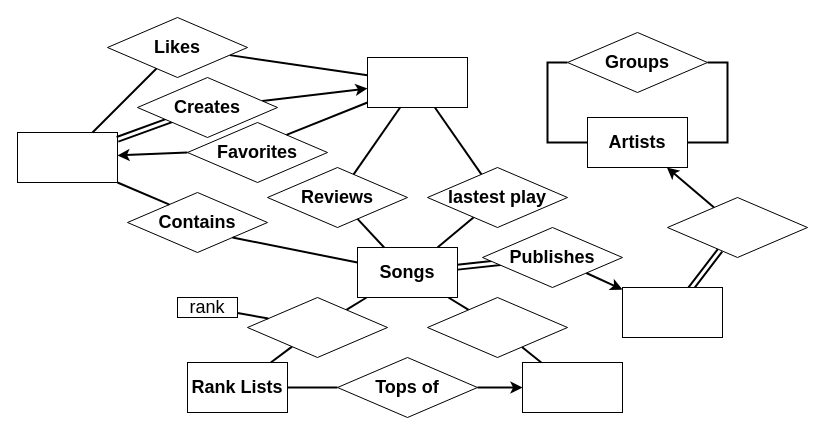
Some shapes in this 825 by 435 pixel diagram are drawn without their labels. Here are the shapes that lost their labels. From the top down, the centre of each, then its label:
At point (417, 82): "Users".
At point (67, 157): "Play Lists".
At point (737, 227): "Releases".
At point (317, 327): "Scores".
At point (497, 327): "Belongs to".
At point (672, 312): "Albums".
At point (572, 387): "Genres".
